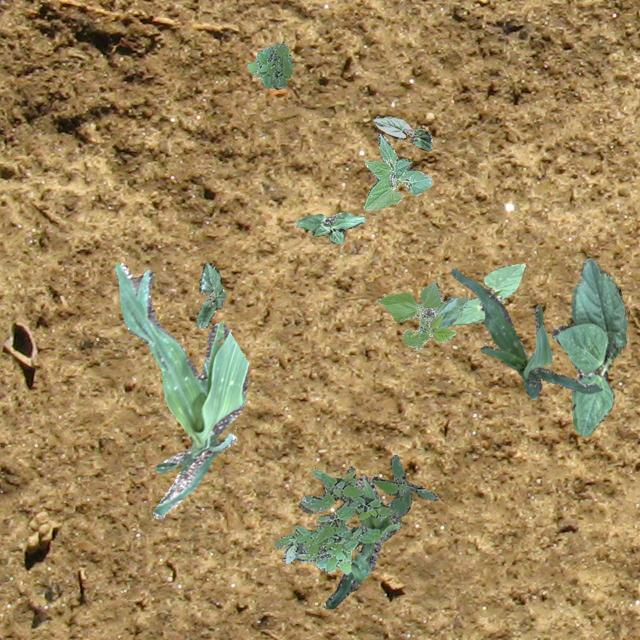crop: (115, 262, 248, 518), (449, 268, 602, 398), (550, 256, 626, 436), (324, 474, 400, 608), (377, 280, 468, 350), (362, 133, 432, 210), (448, 262, 524, 324), (294, 212, 364, 244), (372, 114, 432, 150), (196, 262, 224, 328)
weed: (274, 466, 392, 574), (372, 454, 436, 516), (246, 41, 294, 88)
